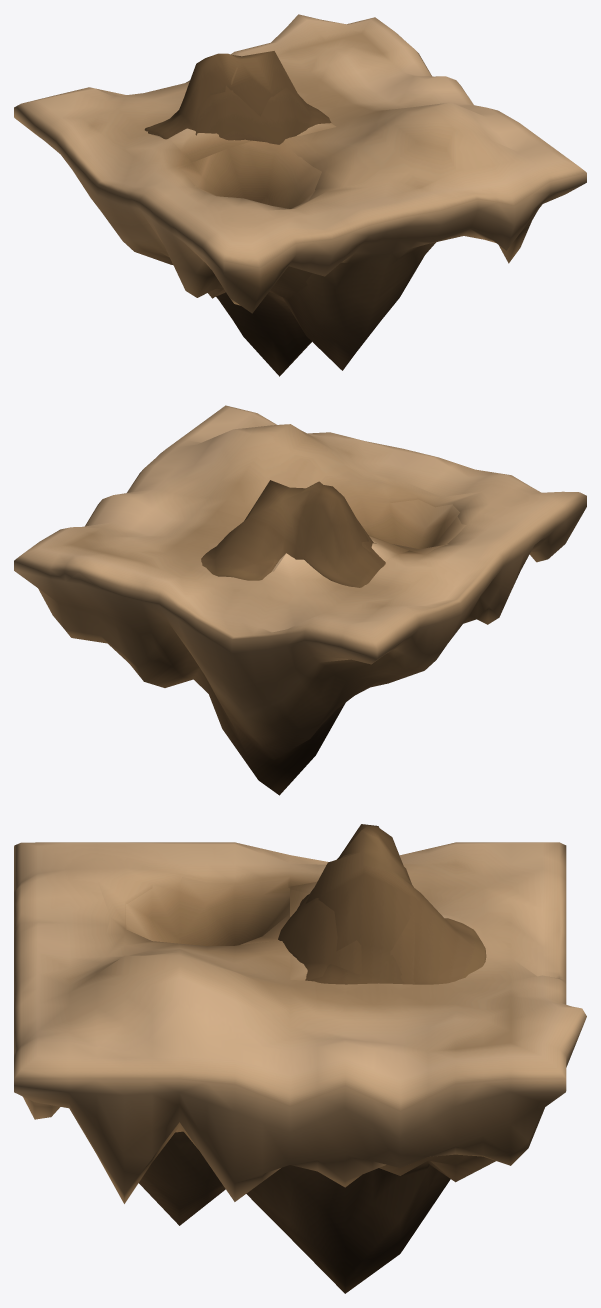
File: Desert_dioramas.fbx
The picture shows the model from 3 angles, top to bottom: view 1: azimuth 30°, elevation 25°; view 2: azimuth 150°, elevation 25°; view 3: azimuth 270°, elevation 25°; orthographic projection. The views are drawn at different scales.
Visible parts, largest first — view 1: DesertDiarama_3, DesertDiarama_2, DirtPile2, DirtPile; view 2: DesertDiarama_3, DesertDiarama_2, DirtPile2; view 3: DesertDiarama_3, DesertDiarama_2, DirtPile2, DirtPile.
Part boxes in pixels (<box>): DesertDiarama_3: <box>14,14,586,299</box>; DesertDiarama_2: <box>14,117,586,376</box>; DirtPile2: <box>144,51,330,139</box>; DirtPile: <box>148,67,331,144</box>; DesertDiarama_3: <box>14,405,586,665</box>; DesertDiarama_2: <box>14,499,586,795</box>; DirtPile2: <box>201,480,385,587</box>; DesertDiarama_3: <box>14,842,586,1111</box>; DesertDiarama_2: <box>14,846,579,1293</box>; DirtPile2: <box>305,824,486,984</box>; DirtPile: <box>278,853,414,984</box>.
Size of the model in its own units: 10 by 8.68 by 10.38.
Materials: 1 (1 with a texture image).
